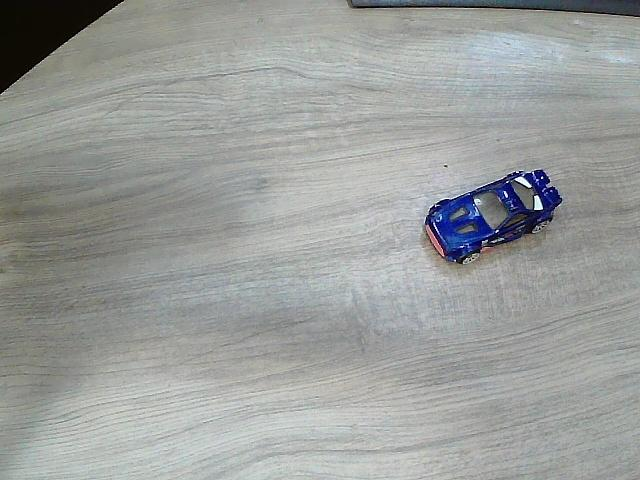Carro: (425, 171, 562, 265)
